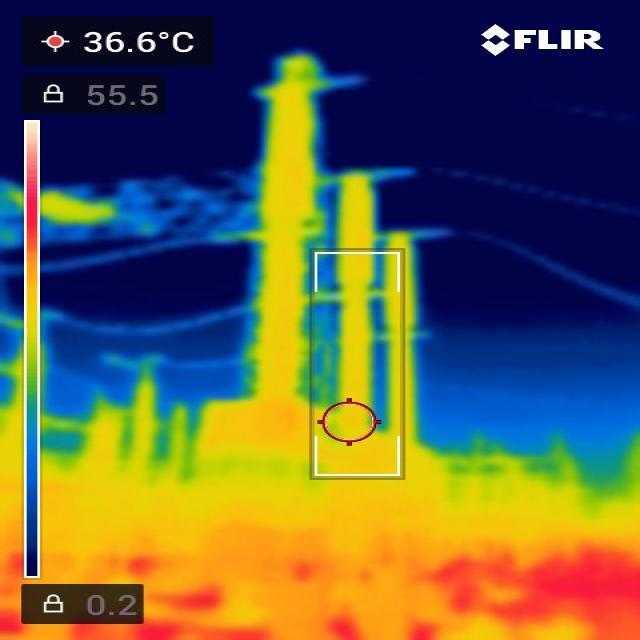Zona_Atenco: (222, 523, 421, 603)
Zona_Critica: (478, 549, 638, 614)
